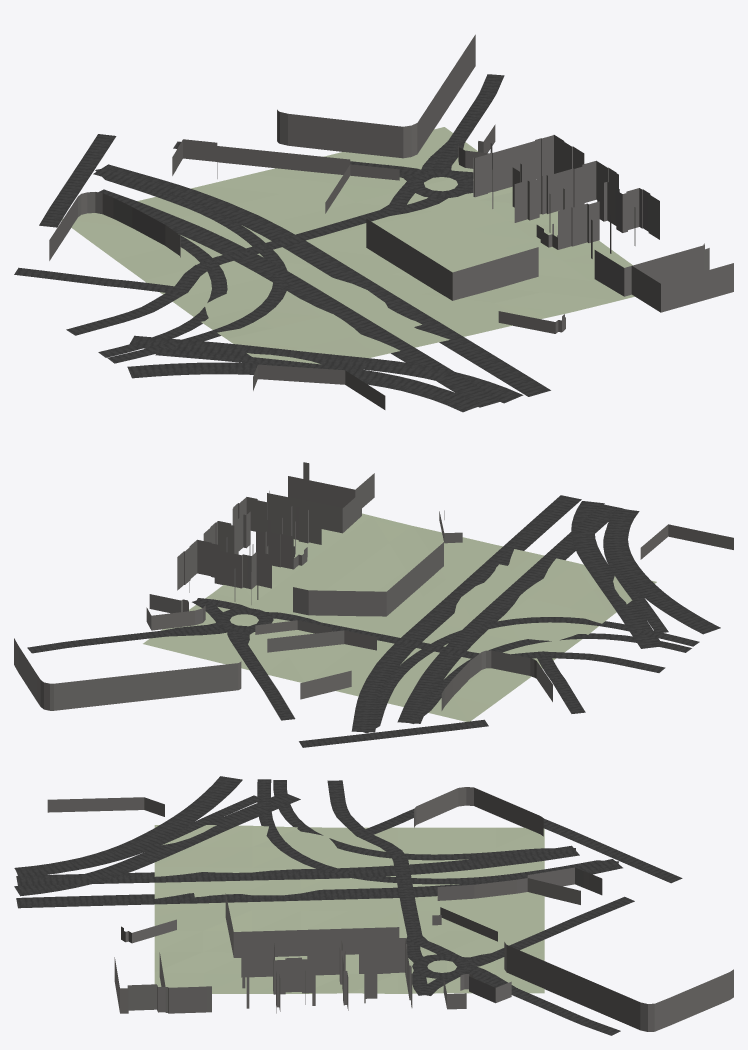
The model's file is tile_37_-27_lod1.gltf.
The picture shows the model from 3 angles, top to bottom: view 1: azimuth 30°, elevation 25°; view 2: azimuth 150°, elevation 25°; view 3: azimuth 270°, elevation 25°; orthographic projection. The views are drawn at different scales.
Parts seen in each view (by area): view 1: Terrain_col, Buildings_col, Roads; view 2: Terrain_col, Buildings_col, Roads; view 3: Terrain_col, Roads, Buildings_col.
Part boxes in pixels (bbox=[...]): Terrain_col: bbox=[61, 127, 634, 364]; Buildings_col: bbox=[49, 34, 733, 409]; Roads: bbox=[14, 74, 550, 412]; Terrain_col: bbox=[143, 513, 656, 721]; Buildings_col: bbox=[14, 462, 733, 710]; Roads: bbox=[27, 495, 720, 747]; Terrain_col: bbox=[154, 825, 544, 993]; Roads: bbox=[14, 776, 682, 1035]; Buildings_col: bbox=[47, 787, 733, 1031].
Bounding box in the file's own units: 396 × 25.27 × 473.
Materials: 3 (1 with a texture image).
